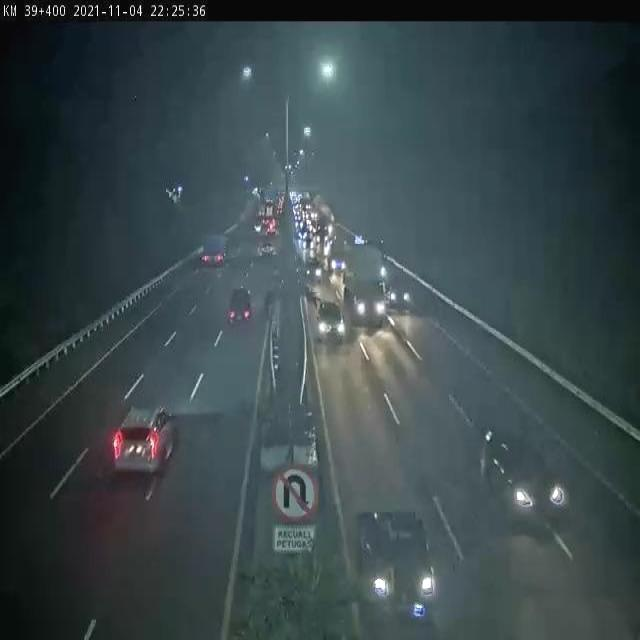Car: (482, 430, 566, 530), (110, 406, 177, 478), (316, 301, 346, 343)
Truck: (354, 506, 436, 617), (342, 240, 388, 326), (202, 235, 225, 270)
